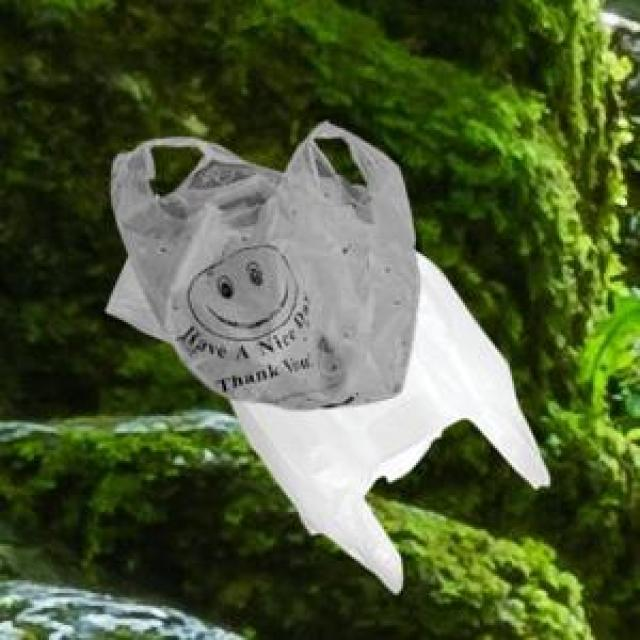waste: (106, 121, 550, 593)
